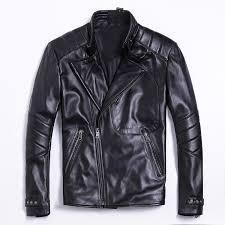jacket: (26, 8, 204, 220)
